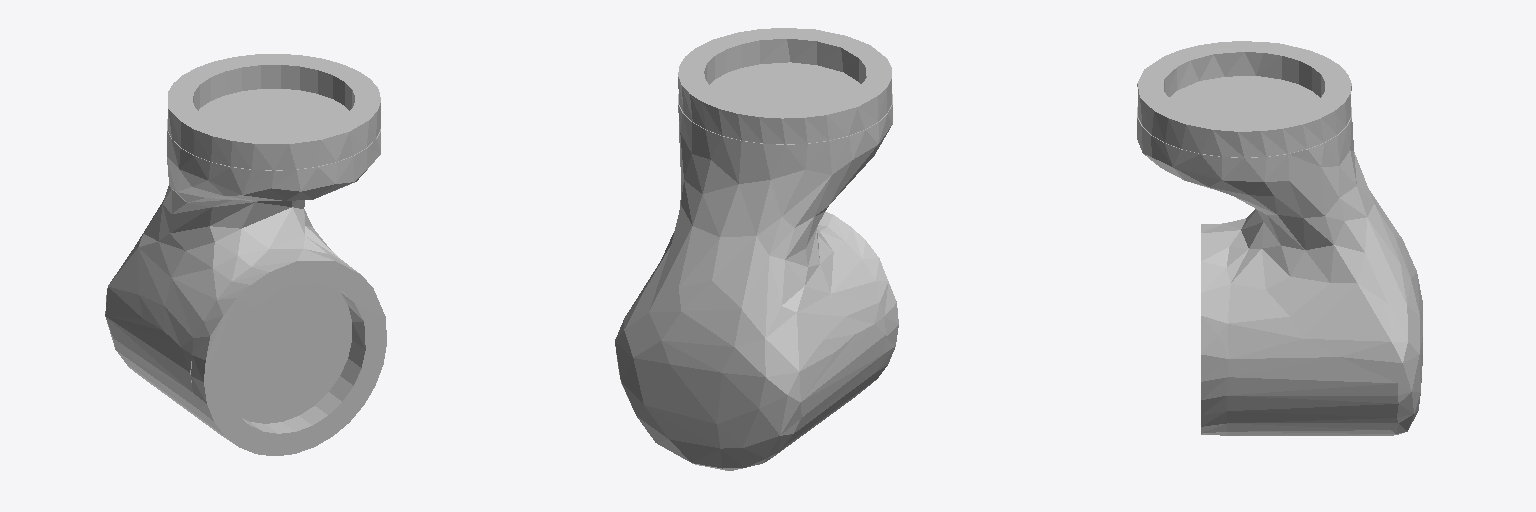
The model's file is dual_rm_75b_description_l_link1_collisions_l_link1_mesh.obj.
3 renders of one model, left to right at view 1: azimuth 30°, elevation 25°; view 2: azimuth 150°, elevation 25°; view 3: azimuth 270°, elevation 25°, orthographic.
Bounding box in the file's own units: 0.0822 × 0.1425 × 0.1091.